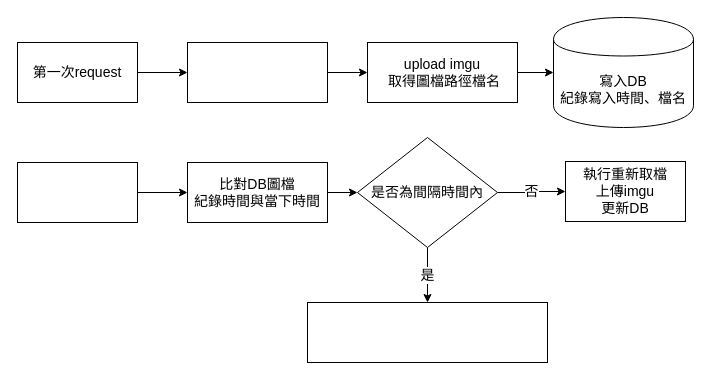
This 711x380 diagram has some shape labels left out. The centre of each missing label's shape, as x and y in pixels:
從中央氣象局網站 取得圖片: (x=257, y=72)
直接讀取DB內存放圖檔路徑: (x=427, y=332)
第一次之後的request: (x=77, y=192)
